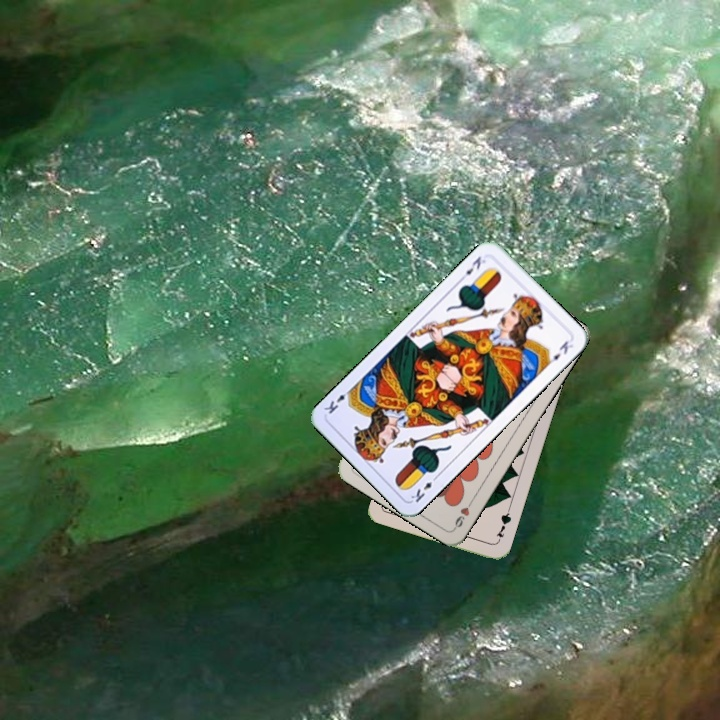EK: (406, 471, 441, 505), (456, 252, 488, 284)
G7: (492, 505, 514, 545)
H9: (450, 495, 476, 531)
